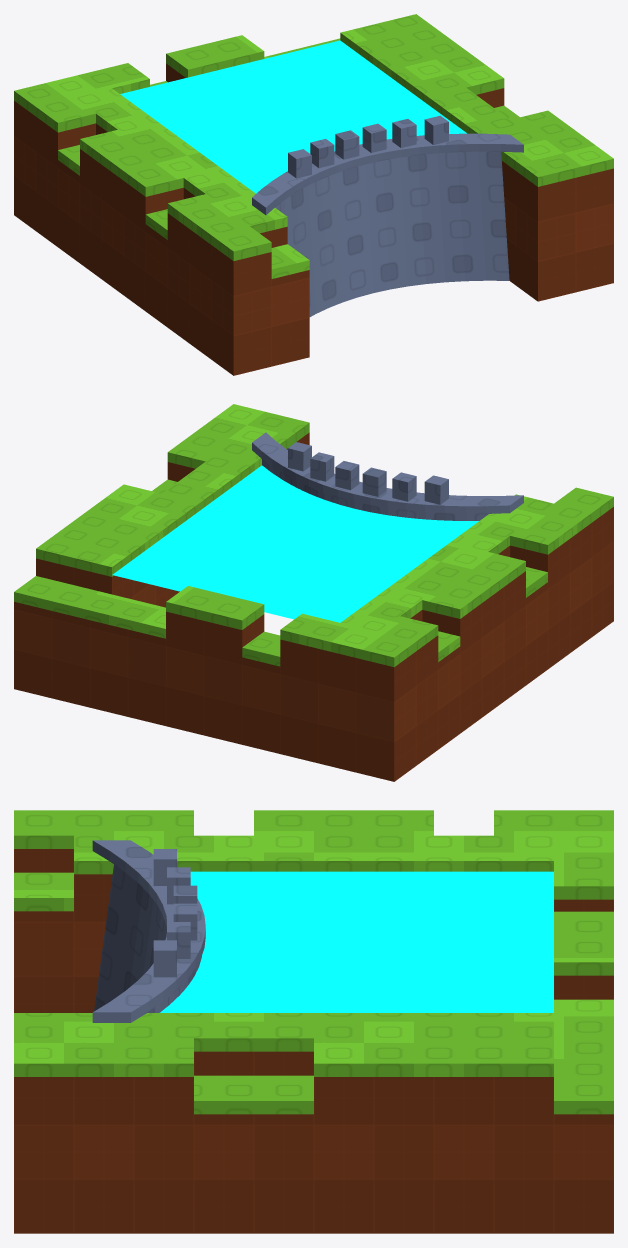
Rendered from Grand_Barrage.fbx.
3 renders of one model, top to bottom at view 1: azimuth 30°, elevation 25°; view 2: azimuth 150°, elevation 25°; view 3: azimuth 270°, elevation 25°, orthographic. The views are drawn at different scales.
Visible parts, largest first — view 1: Grand_Barrage; view 2: Grand_Barrage; view 3: Grand_Barrage.
Boxes of the visible parts, x1,y1,x2,y2 form: Grand_Barrage: [14, 14, 613, 375]; Grand_Barrage: [14, 404, 613, 781]; Grand_Barrage: [14, 810, 613, 1233].
Size of what is drawn, in the model's own units: 1024 by 390 by 1024.
4 materials, 4 textured.
